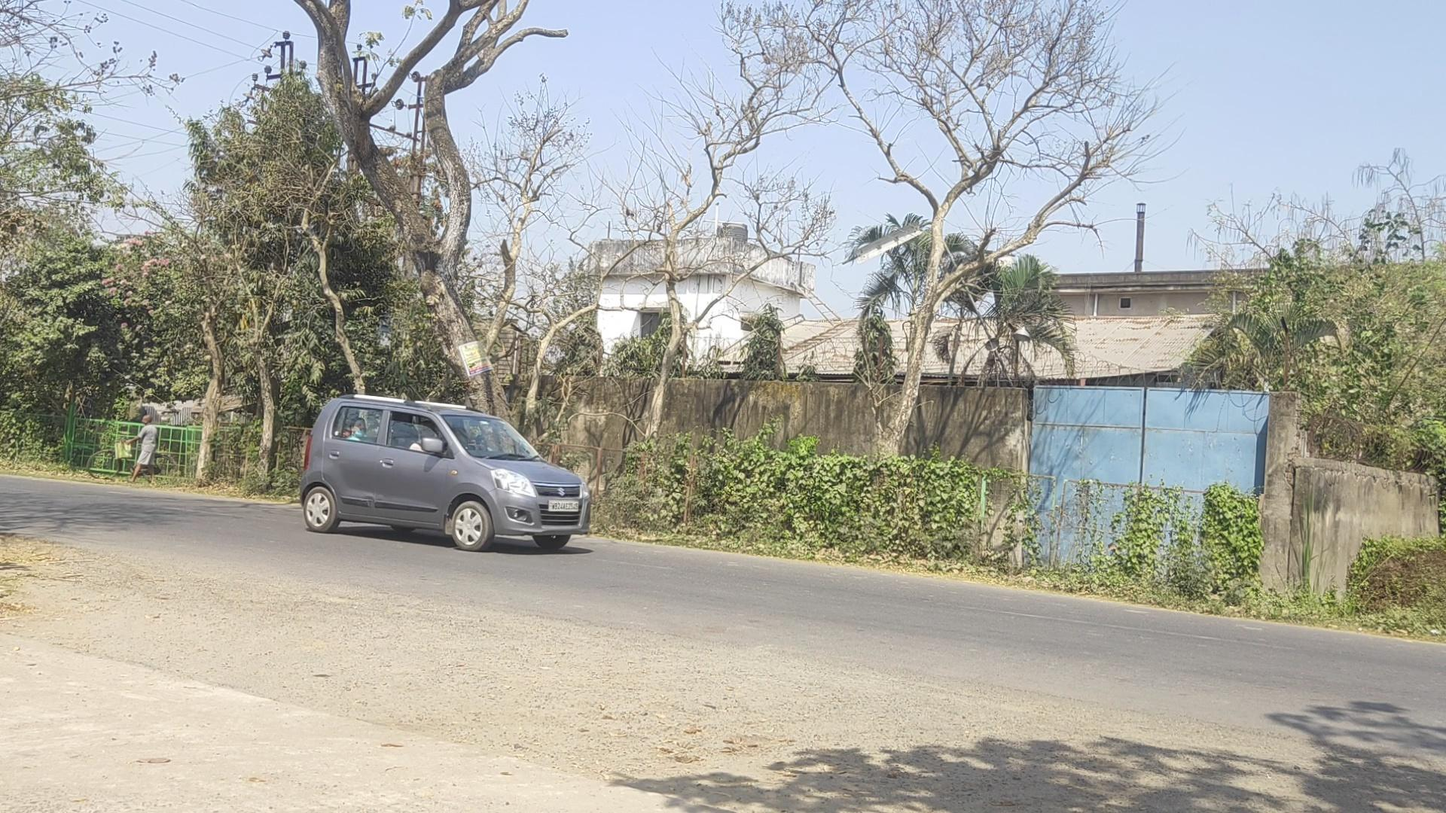car: (300, 394, 590, 553)
